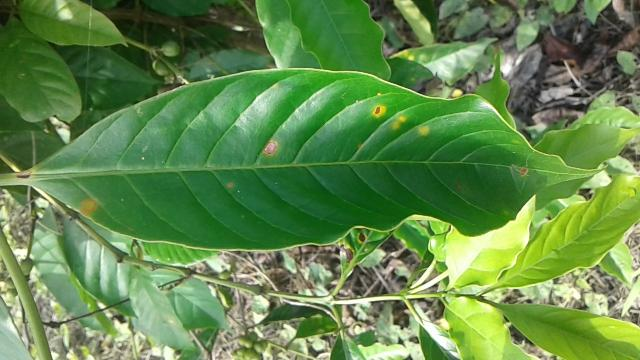rust_level_1: (0, 68, 605, 250)
